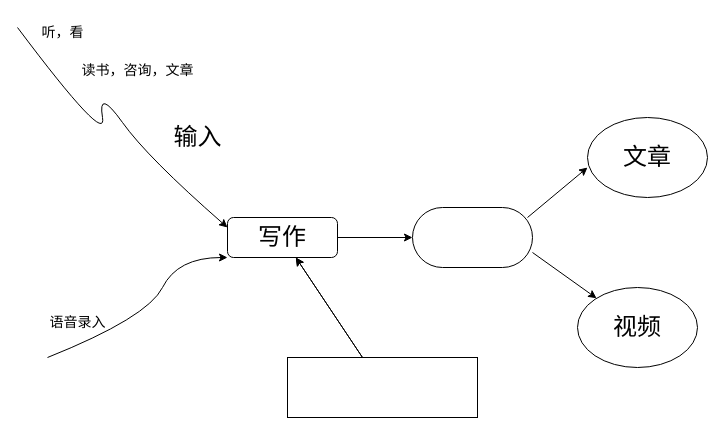
Image size: 725x435. Some labels were removed from this diagram. The centre of each missing label's shape, as x and y in pixels:
"没有想法时，把每天的读书笔记总结，写一个用自己的话解释的文章" goes at point (382, 387).
"输出" goes at point (472, 237).
